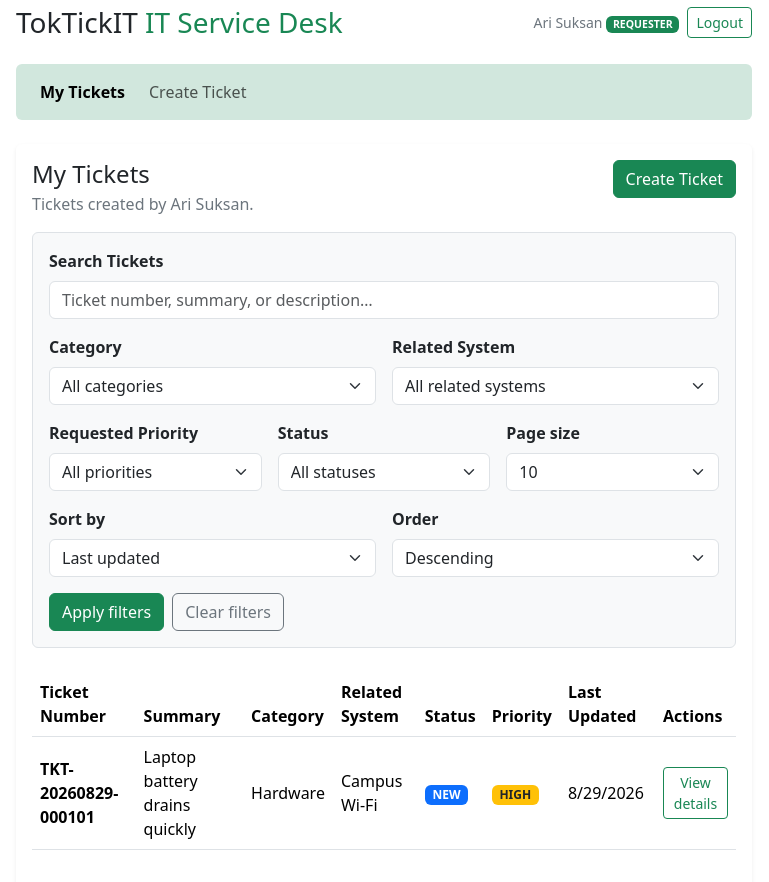
Test case: My Tickets UI › preserves list query state and active navigation after returning from detail
Expected: the heading "My Tickets" is shown, [32, 157, 150, 190]
Type "battery" into the field labelled "Search Tickets".
click(384, 300); type("battery")  # box [49, 281, 719, 319]
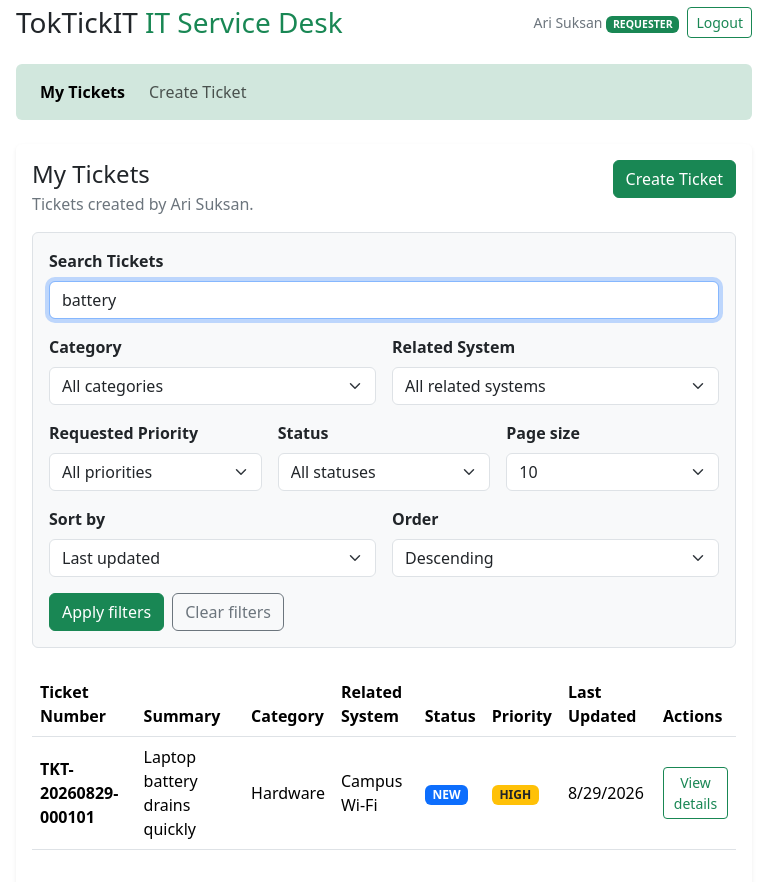
Select "Hardware" in the dropdown labelled "Category" at (212, 386), box [49, 367, 376, 405]
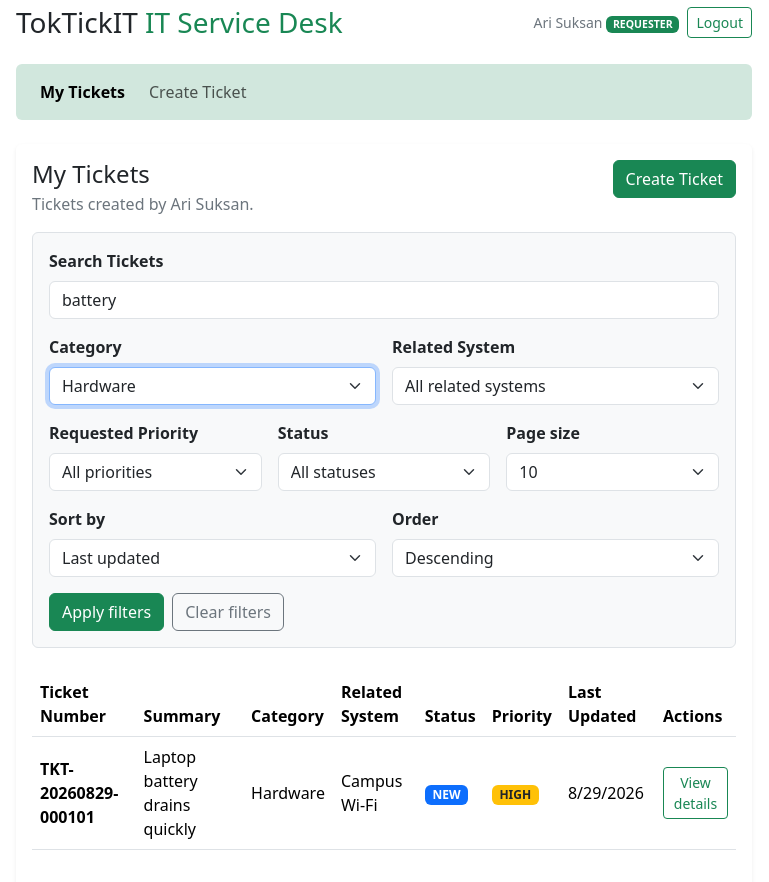
Click the button "Apply filters".
click(107, 612)  # box [49, 593, 164, 631]
(page scrolled)
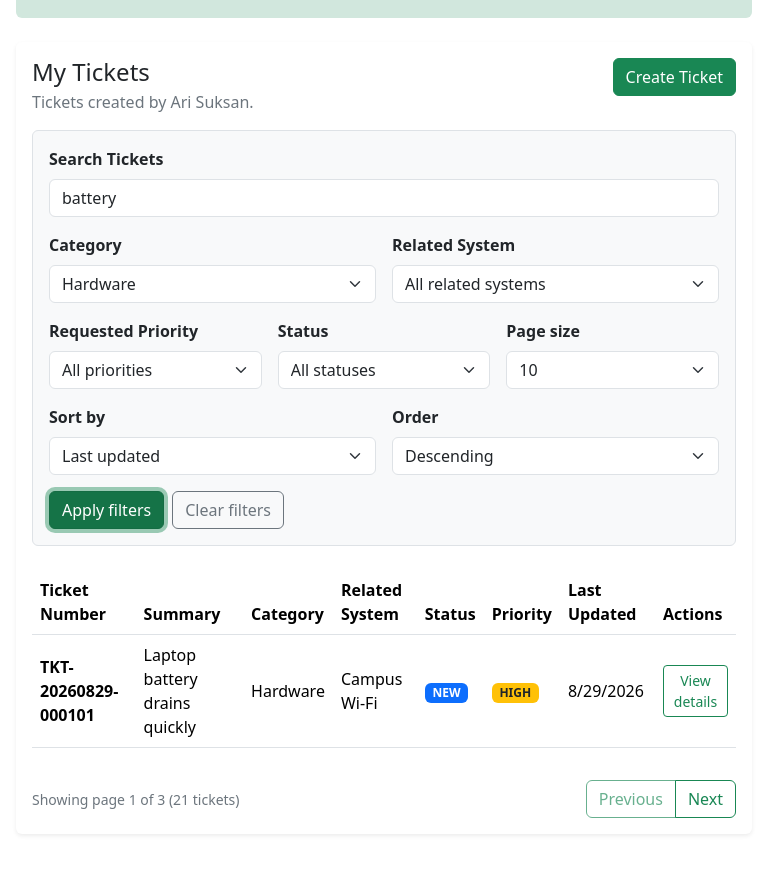
Click the button "Next".
click(705, 799)  # box [675, 780, 736, 818]
(page scrolled)
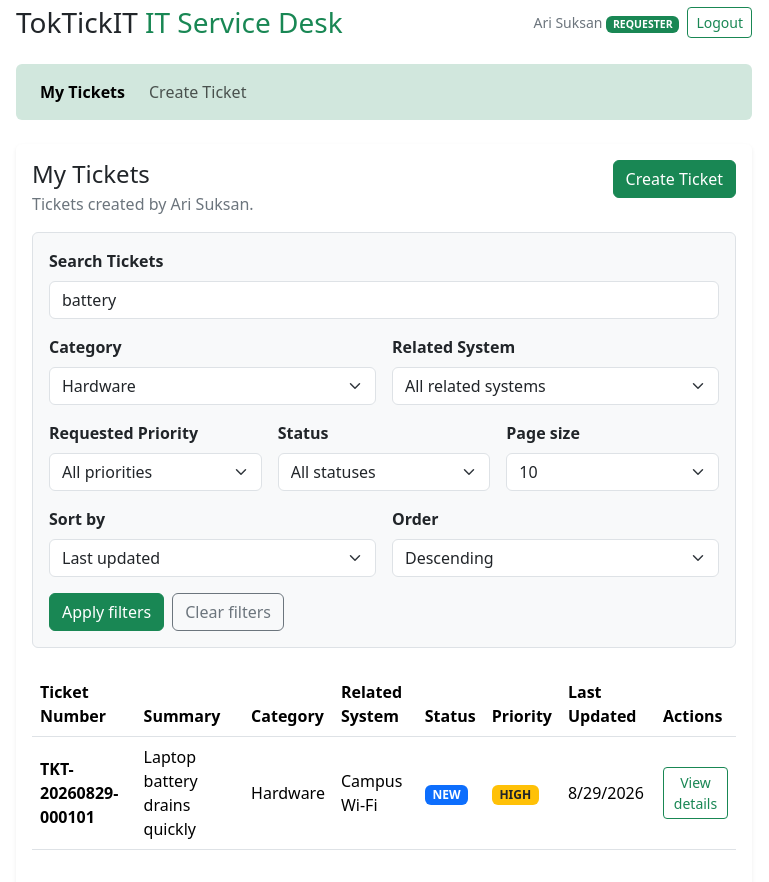
Click the button "View details".
click(696, 793)  # box [663, 767, 728, 819]
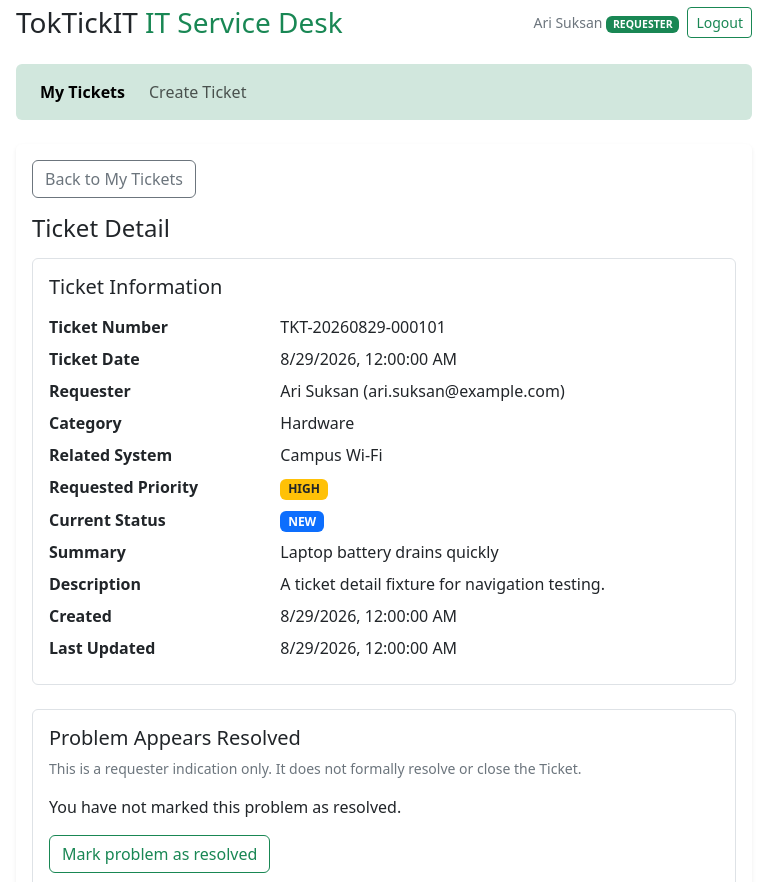
Result: the heading "Ticket Detail" is shown at [32, 211, 170, 244]
Click the button "Back to My Tickets".
click(114, 179)  # box [32, 160, 196, 198]
(page scrolled)
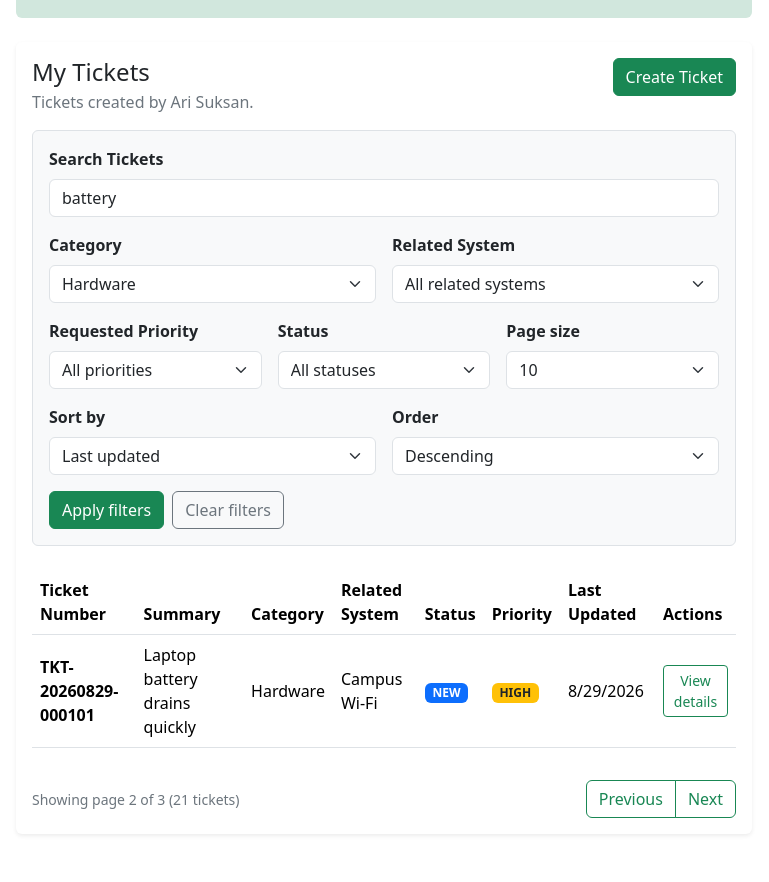
Expected: the heading "My Tickets" is shown, [32, 55, 150, 88]
Result: the text "Showing page 2 of 3 (21 tickets)" is shown at [32, 789, 240, 810]
